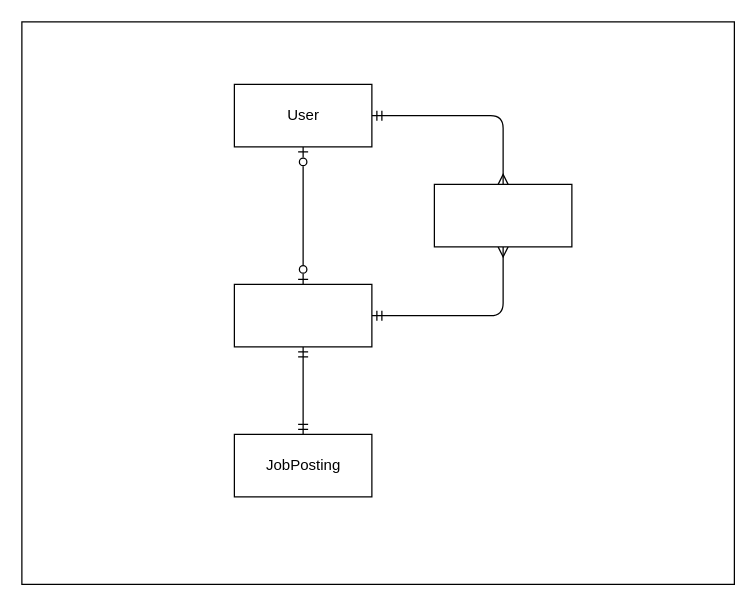
Some shapes in this 756 by 606 pixel diagram are drawn without their labels. Here are the shapes that lost their labels. From the top down, the box of each, then its label:
(433, 183, 572, 247): Job Application
(233, 283, 372, 347): Job
